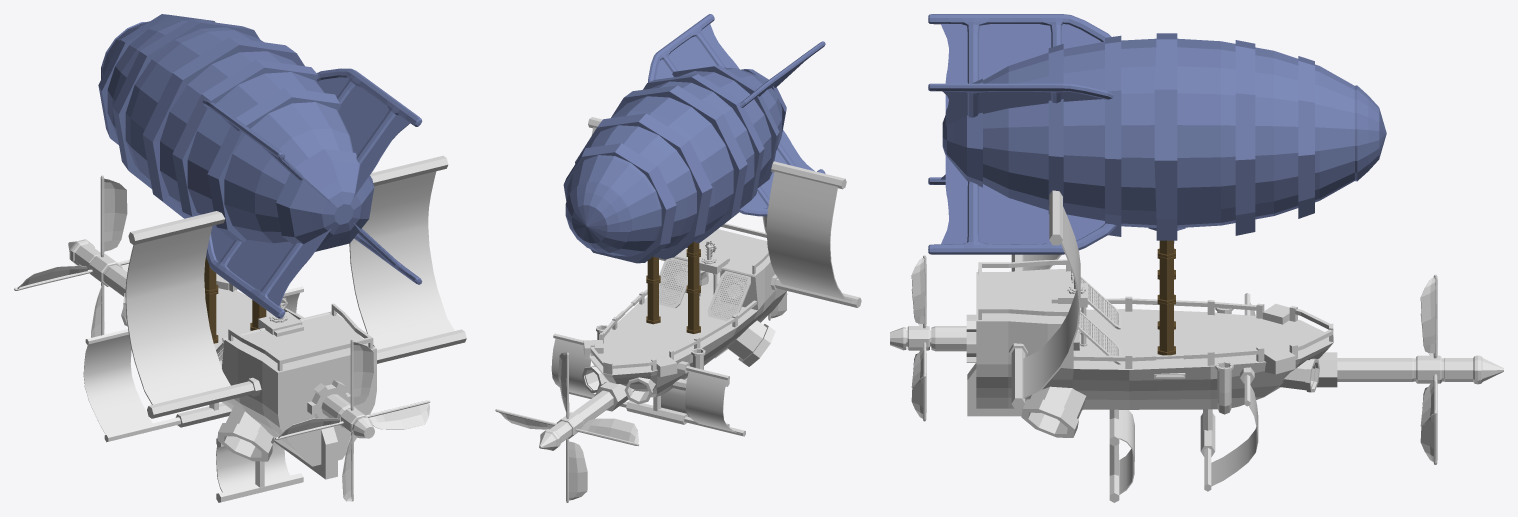
File: Airship_2.fbx
3 views of the same model, side by side, from view 1: azimuth 30°, elevation 25°; view 2: azimuth 150°, elevation 25°; view 3: azimuth 270°, elevation 25° (orthographic). The views are drawn at different scales.
Visible parts, largest first — view 1: Blimp.001, Sails, Deck, eXTERIOR MASTS, Side pipe, Back prop, Propellor, Upper rail, Masts; view 2: Blimp.001, Deck, Sails, Propellor, Side pipe, eXTERIOR MASTS, Upper rail, Masts, Ramp L, Item pipes, Ramp L.001; view 3: Blimp.001, Deck, Side pipe, Sails, Upper rail, eXTERIOR MASTS, Propellor, Back prop, Masts, Item pipes, Ramp L.001, Ramp L.
Boxes of the visible parts, x1,y1,x2,y2 form: Blimp.001: (98,14,422,318); Sails: (83,171,454,492); Deck: (123,273,376,479); eXTERIOR MASTS: (85,155,466,502); Side pipe: (68,239,374,461); Back prop: (275,339,430,501); Propellor: (14,175,129,337); Upper rail: (221,283,373,371); Masts: (204,256,266,343); Blimp.001: (563,14,825,263); Deck: (583,229,786,397); Sails: (551,127,852,433); Propellor: (495,352,638,502); Side pipe: (539,320,775,450); eXTERIOR MASTS: (553,117,861,436); Upper rail: (590,223,768,374); Masts: (646,242,700,333); Ramp L: (707,268,750,320); Item pipes: (582,266,744,404); Ramp L.001: (659,255,687,308); Blimp.001: (928,14,1386,254); Deck: (967,269,1333,416); Side pipe: (890,302,1503,437); Sails: (1023,206,1258,494); Upper rail: (978,259,1333,368); eXTERIOR MASTS: (1009,190,1254,502); Propellor: (1416,274,1441,464); Back prop: (907,255,929,421); Masts: (1157,240,1175,355); Item pipes: (1073,329,1319,392); Ramp L.001: (1078,311,1121,364); Ramp L: (1072,276,1121,329).
Bounding box in the file's own units: 2547 × 3363 × 4225.
